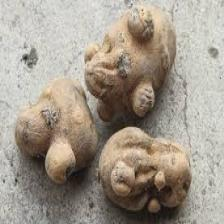Damaged potato: (87, 4, 176, 122), (94, 120, 196, 219), (19, 73, 101, 183)
